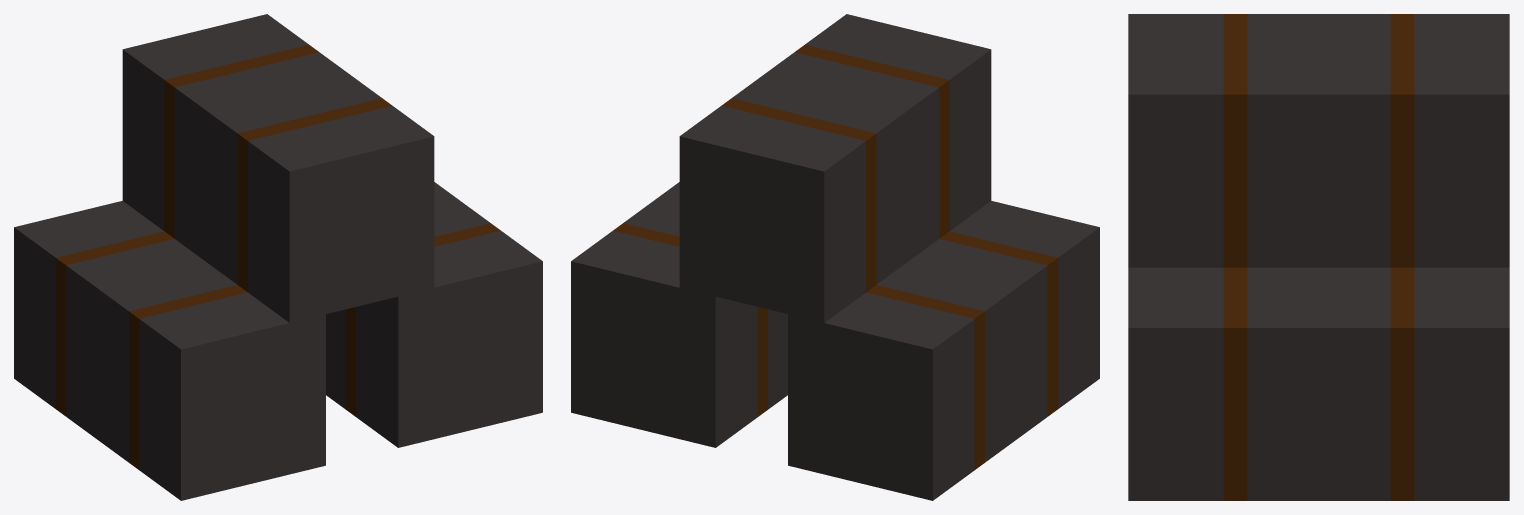
File: obj_hay_bails_2_0.obj
The picture shows the model from 3 angles, left to right: view 1: azimuth 30°, elevation 25°; view 2: azimuth 150°, elevation 25°; view 3: azimuth 270°, elevation 25°; orthographic projection. The views are drawn at different scales.
Size of the model in its own units: 1.25 by 1 by 1.
